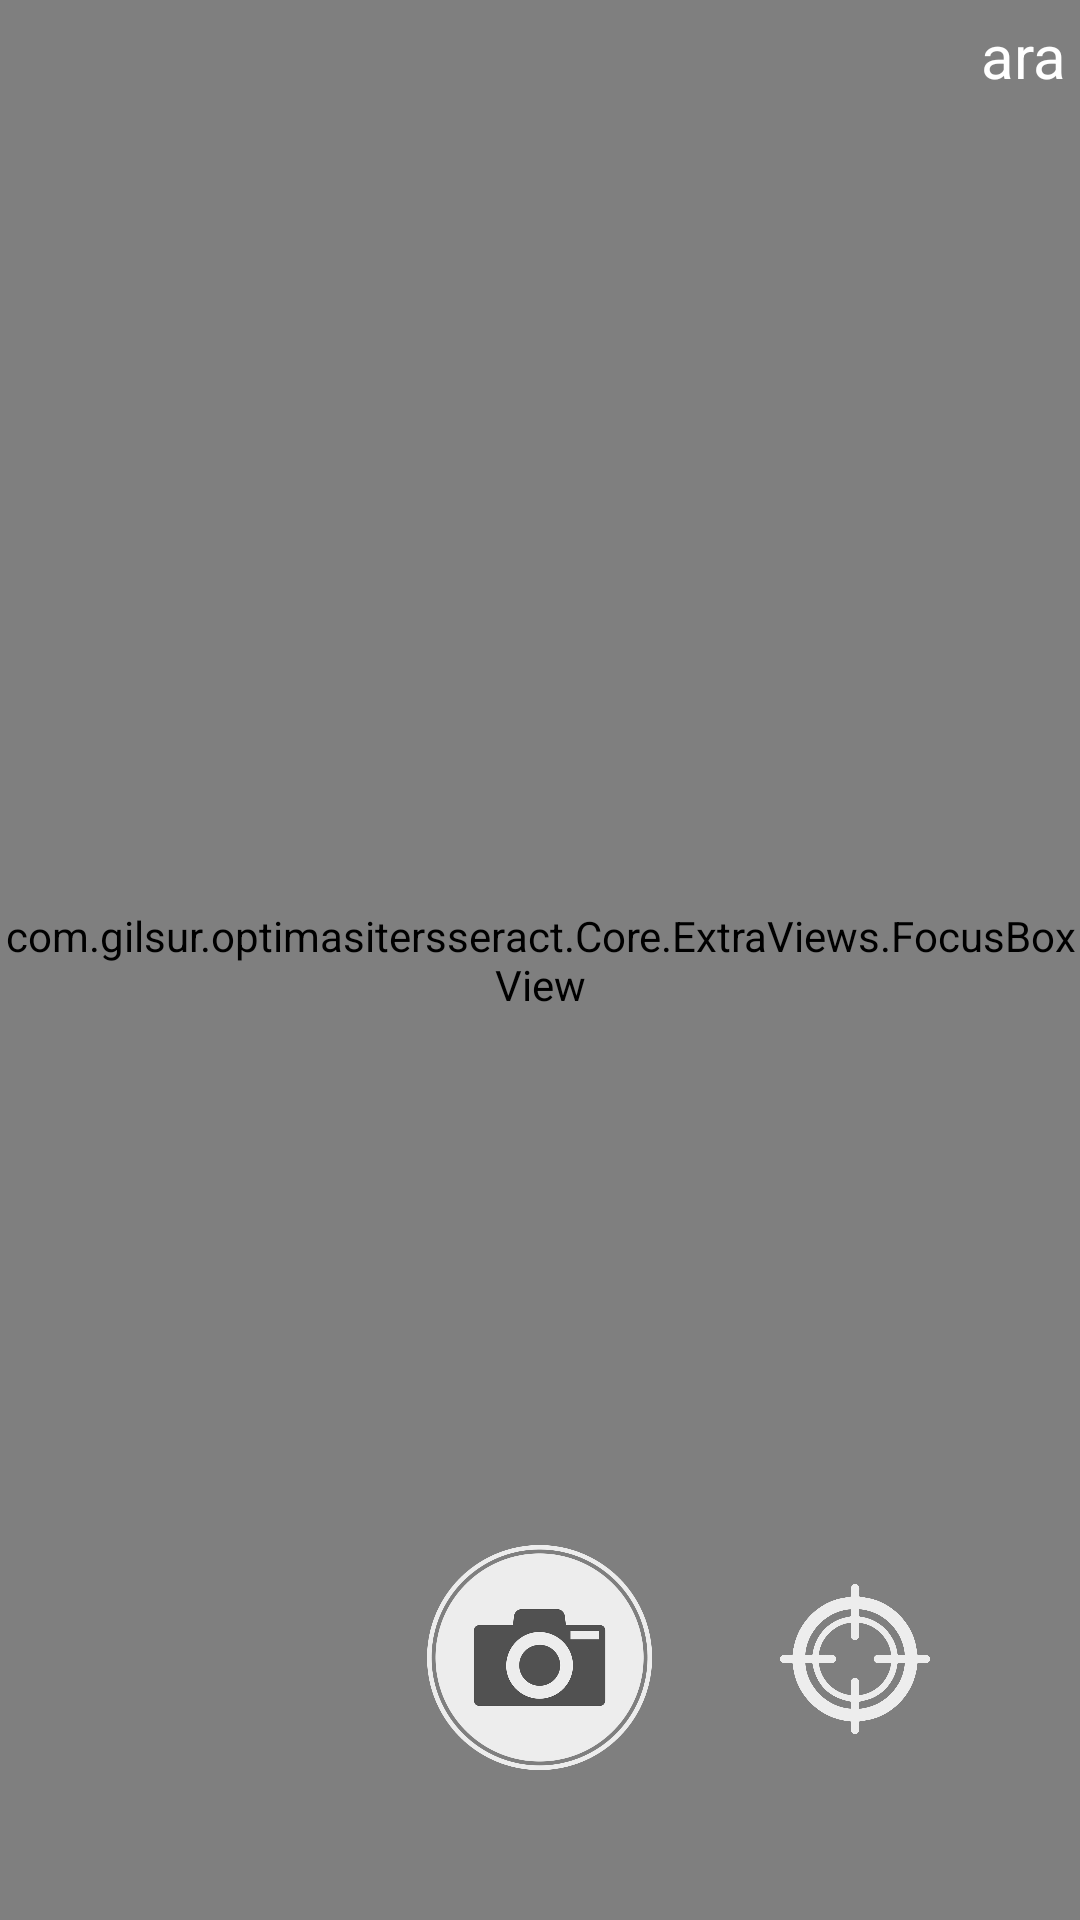

Screen size 1080×1920. Icon name, then its center in pixels as point (x, y):
capture: point (539, 1657)
